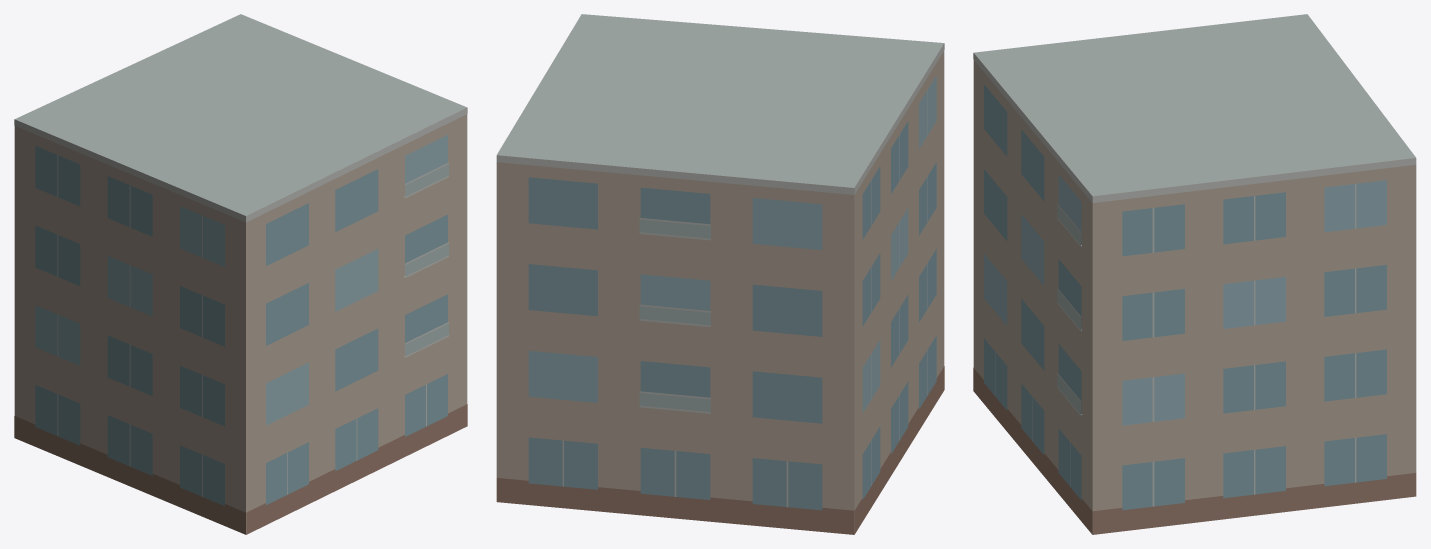
File: survey-upis-32845806.glb
The picture shows the model from 3 angles, left to right: view 1: azimuth 30°, elevation 25°; view 2: azimuth 150°, elevation 25°; view 3: azimuth 270°, elevation 25°; orthographic projection. The views are drawn at different scales.
Parts seen in each view (by area): view 1: survey-upis-32845806.tmp; view 2: survey-upis-32845806.tmp; view 3: survey-upis-32845806.tmp.
Boxes of the visible parts, x1,y1,x2,y2 form: survey-upis-32845806.tmp: (14,14,467,534); survey-upis-32845806.tmp: (496,14,944,534); survey-upis-32845806.tmp: (973,14,1416,534).
Size of the model in its own units: 14.1 by 12.2 by 14.47.
